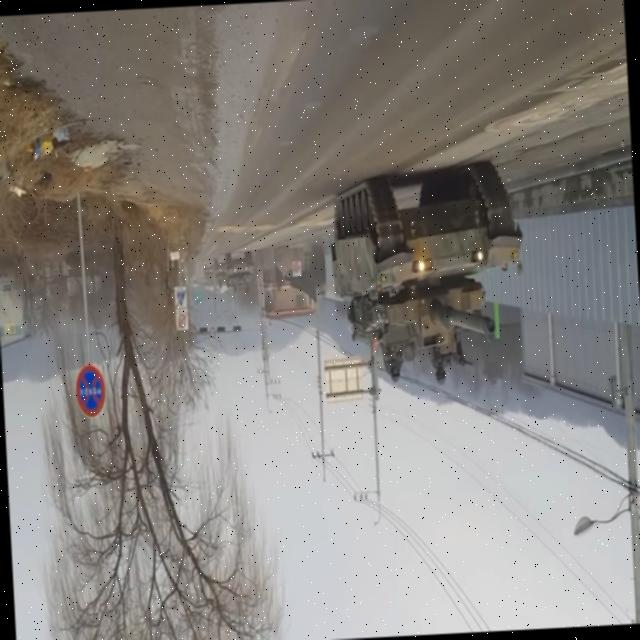korea tank: (323, 156, 531, 394)
